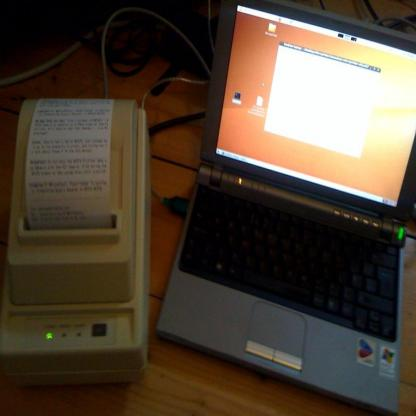board: (166, 0, 410, 411)
